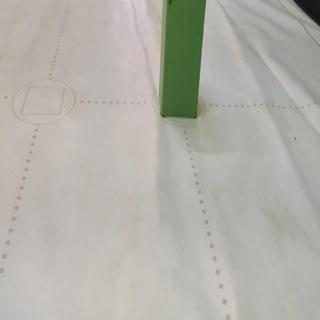greenbox: (161, 1, 208, 118)
